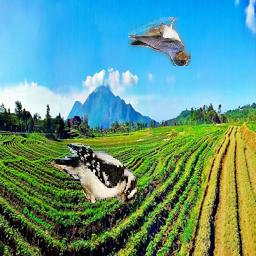Swallow: (129, 18, 192, 67)
Woodpecker: (49, 144, 138, 207)
